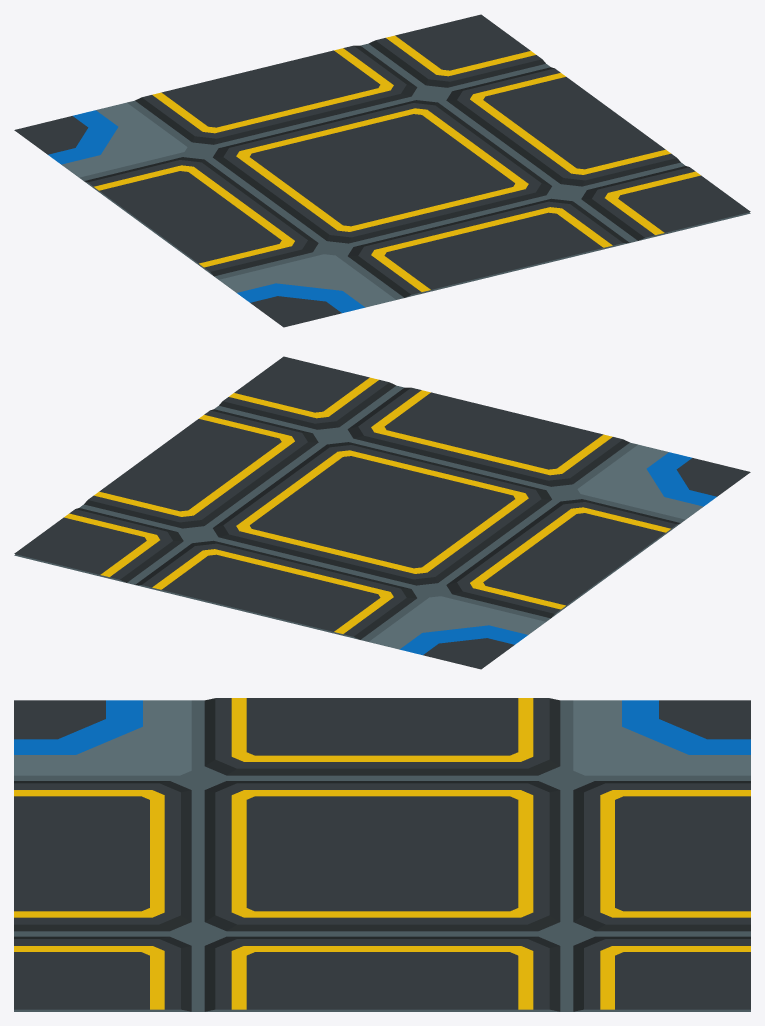
Rendered from Floor_type_C_033.glb.
The picture shows the model from 3 angles, top to bottom: view 1: azimuth 30°, elevation 25°; view 2: azimuth 150°, elevation 25°; view 3: azimuth 270°, elevation 25°; orthographic projection. The views are drawn at different scales.
Parts seen in each view (by area): view 1: Floor_type_C_033; view 2: Floor_type_C_033; view 3: Floor_type_C_033.
Part boxes in pixels (x1,y1,x2,y2): Floor_type_C_033: (14, 14, 750, 327); Floor_type_C_033: (14, 356, 750, 669); Floor_type_C_033: (14, 698, 750, 1011).
Bounding box in the file's own units: 4 × 0.0134 × 4.
2 materials, 2 textured.
